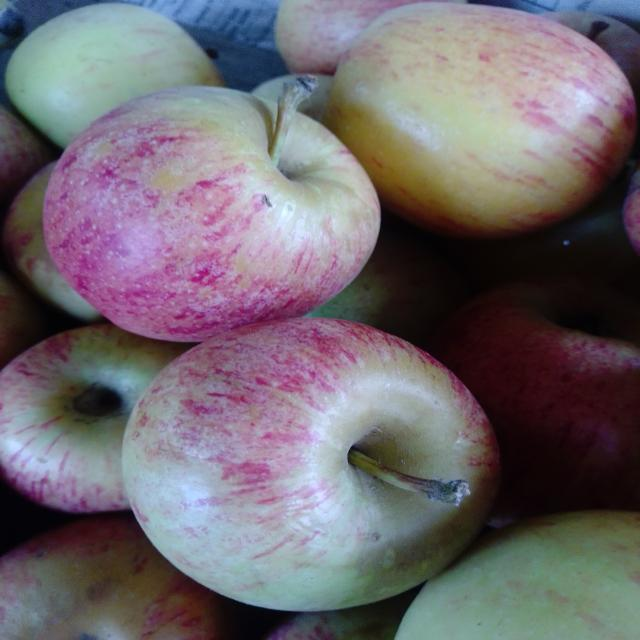apple: (123, 318, 499, 611), (44, 87, 380, 341), (323, 3, 636, 237), (431, 279, 639, 525), (0, 324, 188, 513), (5, 3, 223, 147), (396, 510, 639, 639), (0, 514, 246, 639), (443, 177, 639, 296), (308, 226, 469, 348), (2, 163, 103, 323), (275, 0, 417, 74), (542, 11, 639, 102), (266, 589, 417, 639), (0, 107, 54, 205), (0, 271, 46, 367), (298, 74, 332, 121), (623, 163, 639, 255), (0, 0, 26, 49)
